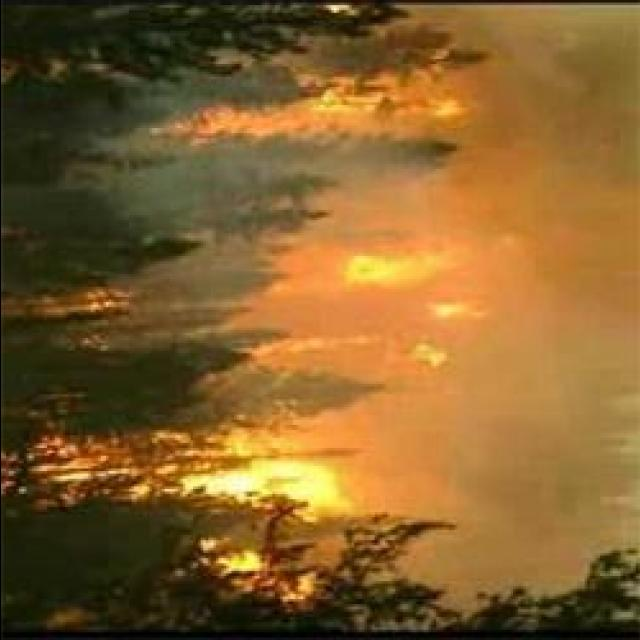fire: (217, 452, 341, 508)
smoke: (498, 0, 638, 200), (332, 152, 432, 216), (440, 218, 530, 288), (182, 147, 265, 189)
